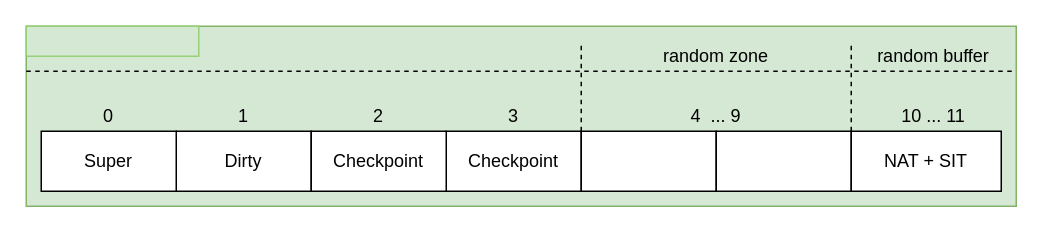
The diagram is 1044 pixels wide and 233 high, and some of its shapes have lost their labels. Each missing label, with the box of its shape:
FluffleFS: (25, 25, 199, 56)
NAT: (580, 130, 716, 191)
SIT: (715, 130, 851, 191)
